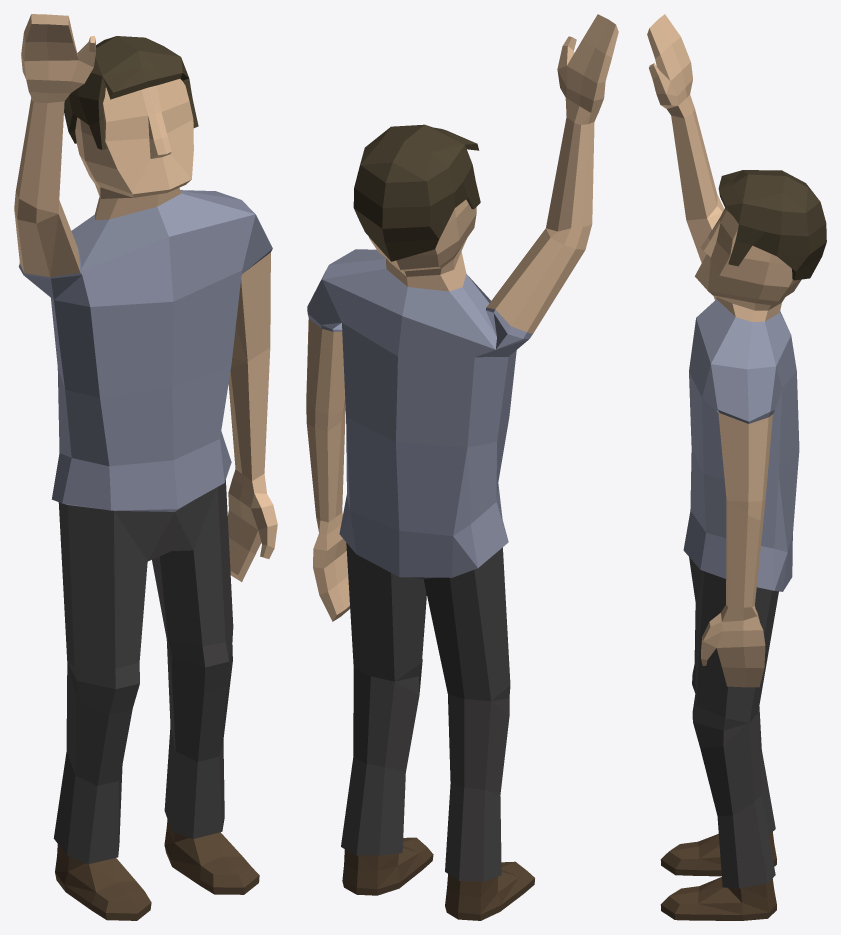
Rendered from Male_Crowd_FistPump.glb.
3 renders of one model, left to right at view 1: azimuth 30°, elevation 25°; view 2: azimuth 150°, elevation 25°; view 3: azimuth 270°, elevation 25°, orthographic. The views are drawn at different scales.
Parts seen in each view (by area): view 1: Male_Crowd_FistPump; view 2: Male_Crowd_FistPump; view 3: Male_Crowd_FistPump.
Boxes of the visible parts, box(x1,y1,x2,y2) form: Male_Crowd_FistPump: box(14, 14, 277, 920); Male_Crowd_FistPump: box(306, 14, 618, 920); Male_Crowd_FistPump: box(647, 14, 826, 920).
Bounding box in the file's own units: 0.6427 × 2.03 × 0.4091.
